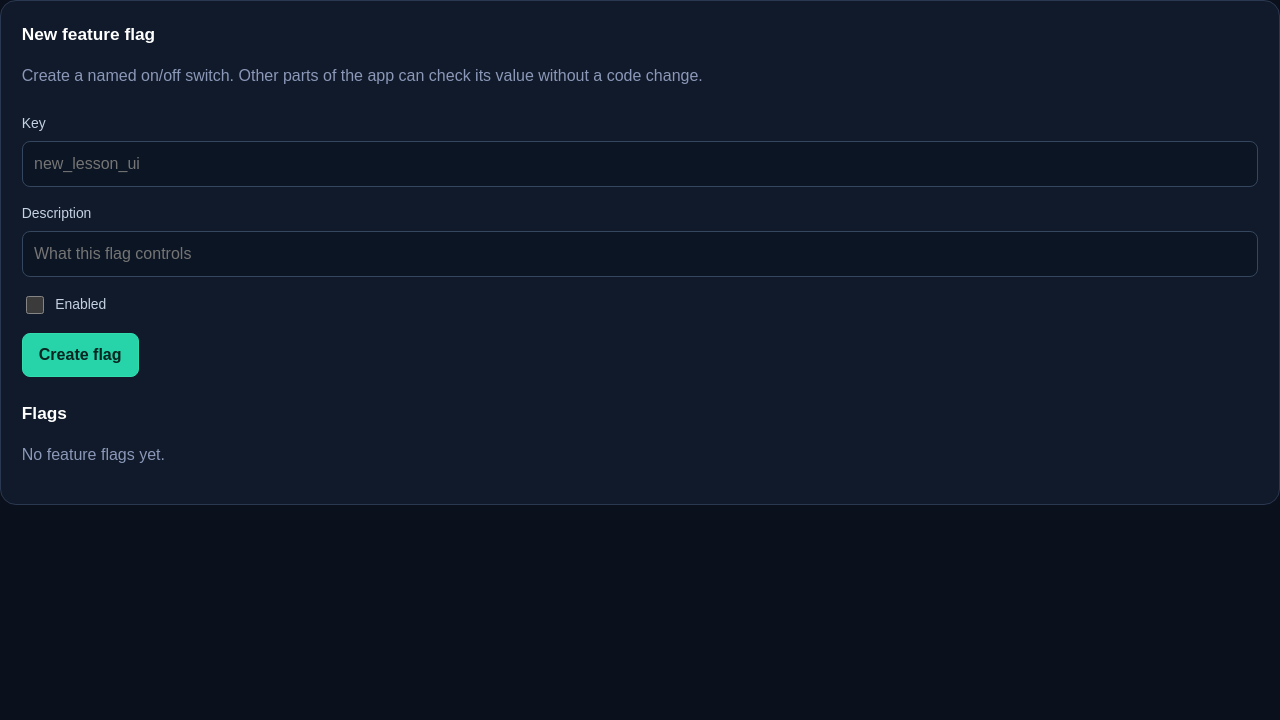
FeatureFlagsManager › creates a flag, defaulting an unchecked box to disabled
Type "new_flag" into the field labelled "Key" at (640, 164), box [22,141,1258,187]
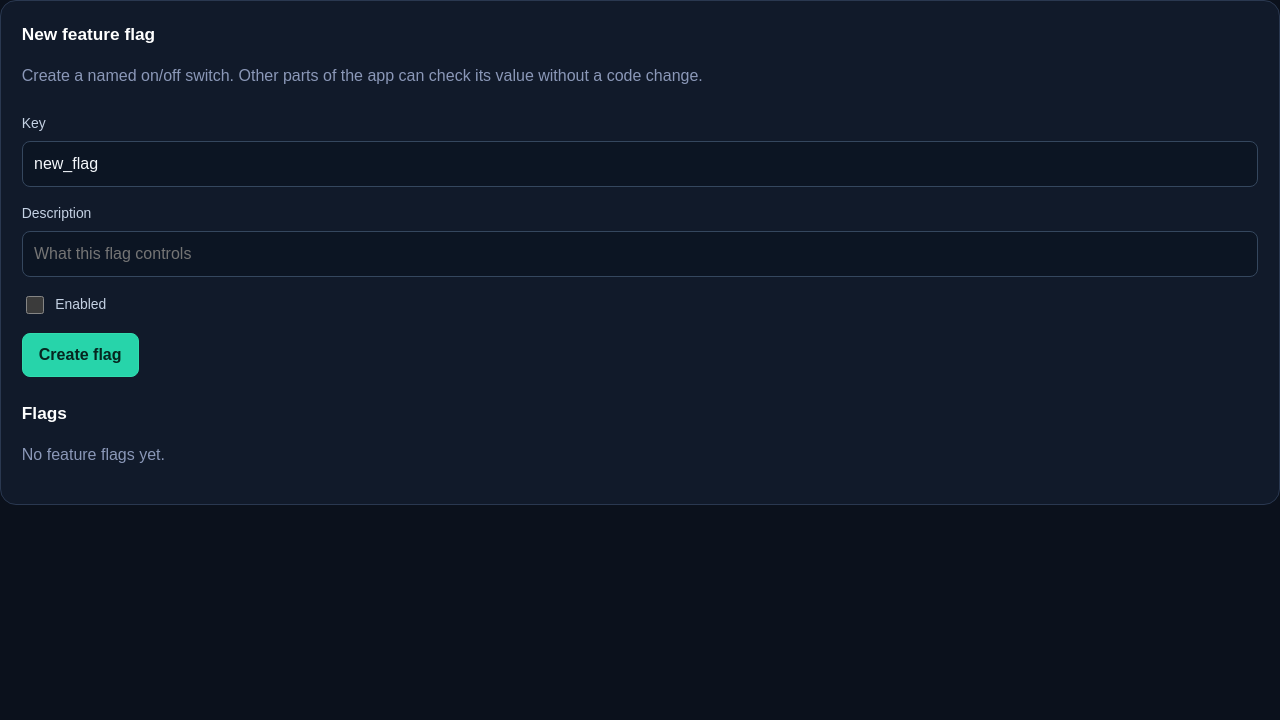
Type "A new flag" into the field labelled "Description" at (640, 254), box [22,232,1258,277]
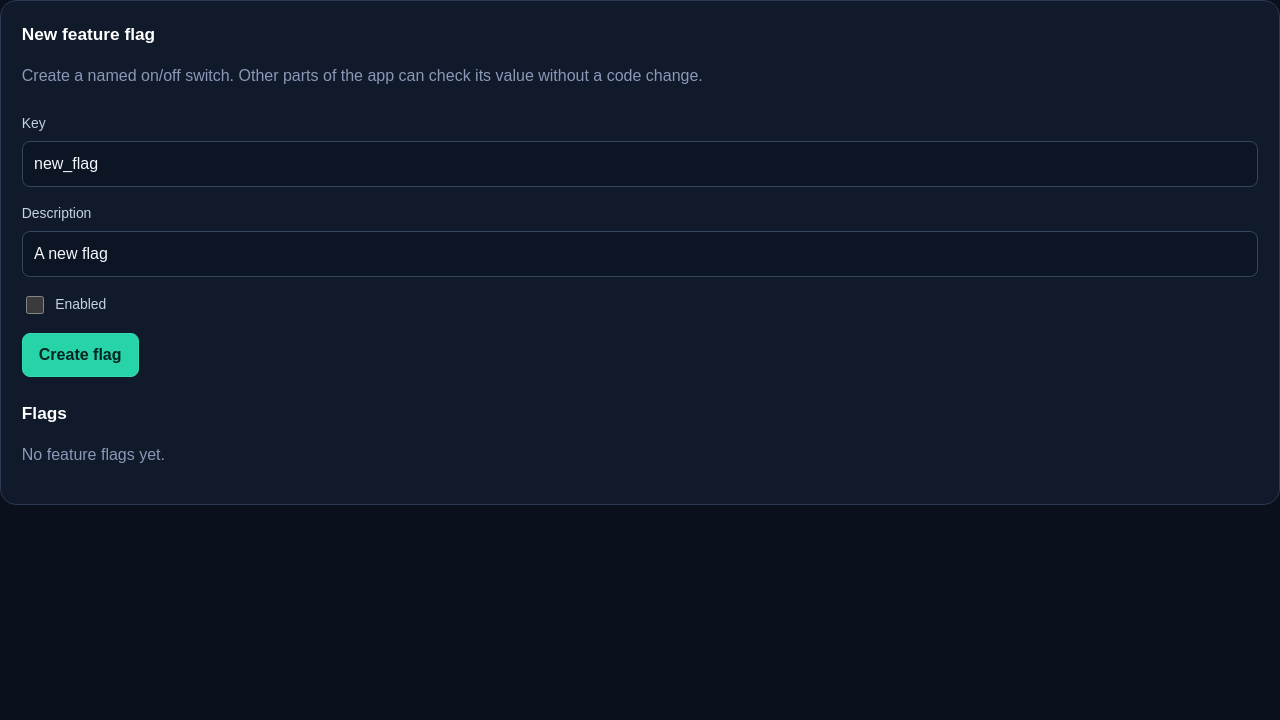
Click the button "Create flag" at (80, 355), box [22,333,138,377]
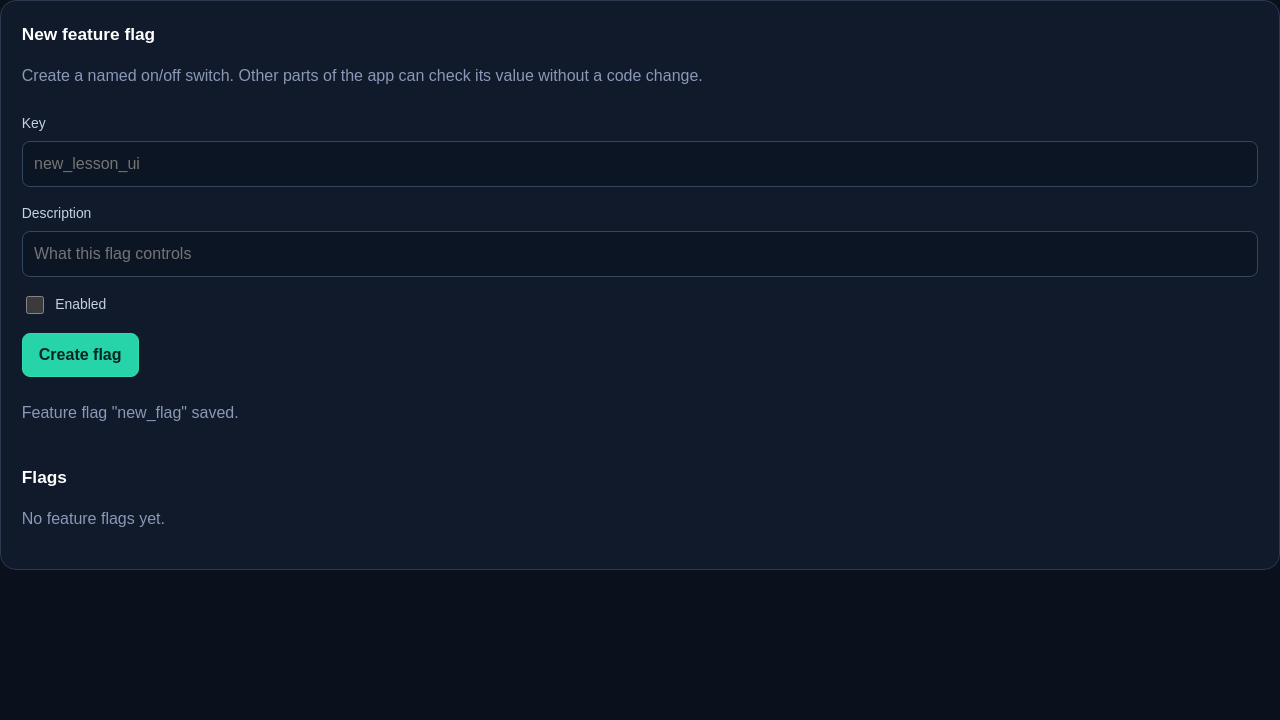
Check: the message shows "saved", box [22,404,239,421]
